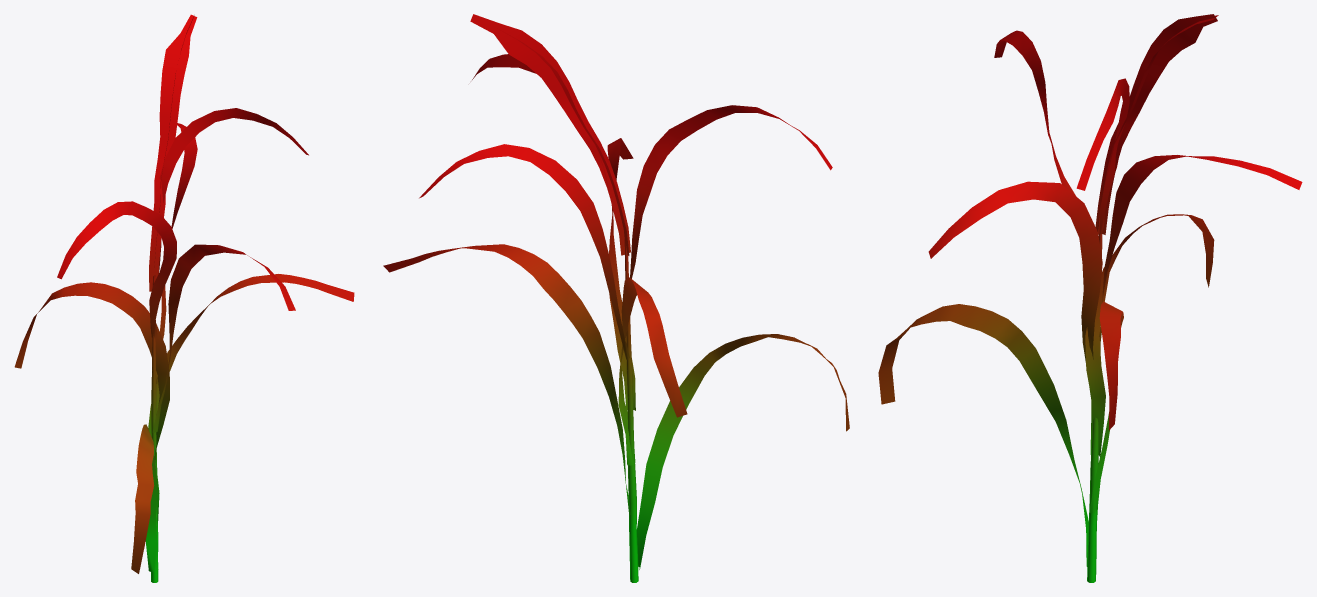
The model's file is tjugaikia_Var6_LOD0.fbx.
3 renders of one model, left to right at view 1: azimuth 30°, elevation 25°; view 2: azimuth 150°, elevation 25°; view 3: azimuth 270°, elevation 25°, orthographic. The views are drawn at different scales.
Parts seen in each view (by area): view 1: _77c7_Var6_LOD0; view 2: _77c7_Var6_LOD0; view 3: _77c7_Var6_LOD0.
Part boxes in pixels (<box>): _77c7_Var6_LOD0: <box>14,14,354,582</box>; _77c7_Var6_LOD0: <box>383,14,849,582</box>; _77c7_Var6_LOD0: <box>878,14,1302,582</box>.
Size of the model in its own units: 44.13 by 62.44 by 38.64.
